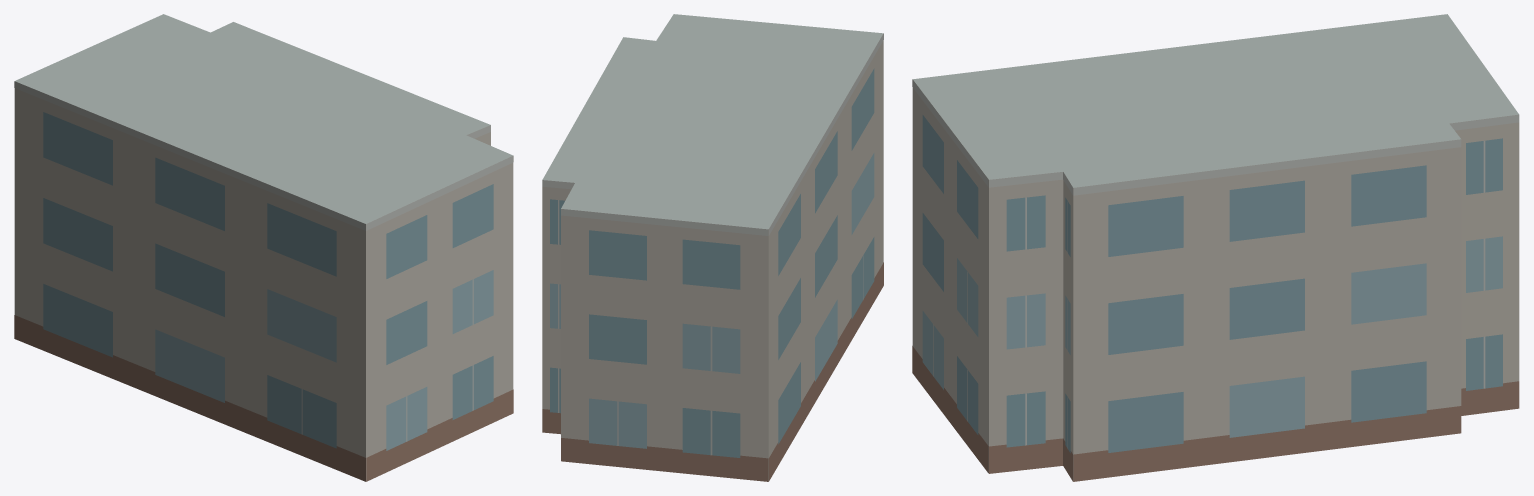
Rendered from survey-upis-32719331.glb.
3 renders of one model, left to right at view 1: azimuth 30°, elevation 25°; view 2: azimuth 150°, elevation 25°; view 3: azimuth 270°, elevation 25°, orthographic. The views are drawn at different scales.
Parts seen in each view (by area): view 1: survey-upis-32719331.tmp; view 2: survey-upis-32719331.tmp; view 3: survey-upis-32719331.tmp.
Boxes of the visible parts, left/top/right/bottom form: survey-upis-32719331.tmp: left=14, top=14, right=513, bottom=481; survey-upis-32719331.tmp: left=542, top=14, right=883, bottom=481; survey-upis-32719331.tmp: left=912, top=14, right=1519, bottom=481.
Bounding box in the file's own units: 11.62 × 9.15 × 17.12.
